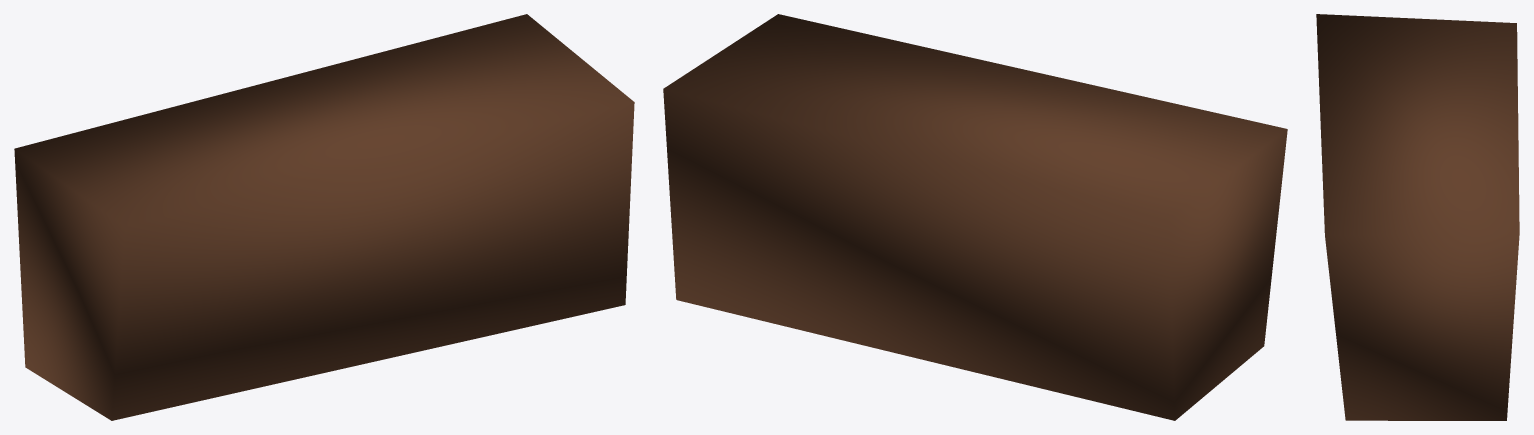
Rendered from alpacaWoolskin_low.glb.
3 renders of one model, left to right at view 1: azimuth 30°, elevation 25°; view 2: azimuth 150°, elevation 25°; view 3: azimuth 270°, elevation 25°, orthographic. The views are drawn at different scales.
Parts seen in each view (by area): view 1: Cube; view 2: Cube; view 3: Cube.
Boxes of the visible parts, left/top/right/bottom form: Cube: left=14, top=14, right=634, bottom=420; Cube: left=663, top=14, right=1287, bottom=420; Cube: left=1316, top=14, right=1519, bottom=420.
Bounding box in the file's own units: 0.6564 × 0.267 × 0.2568.
